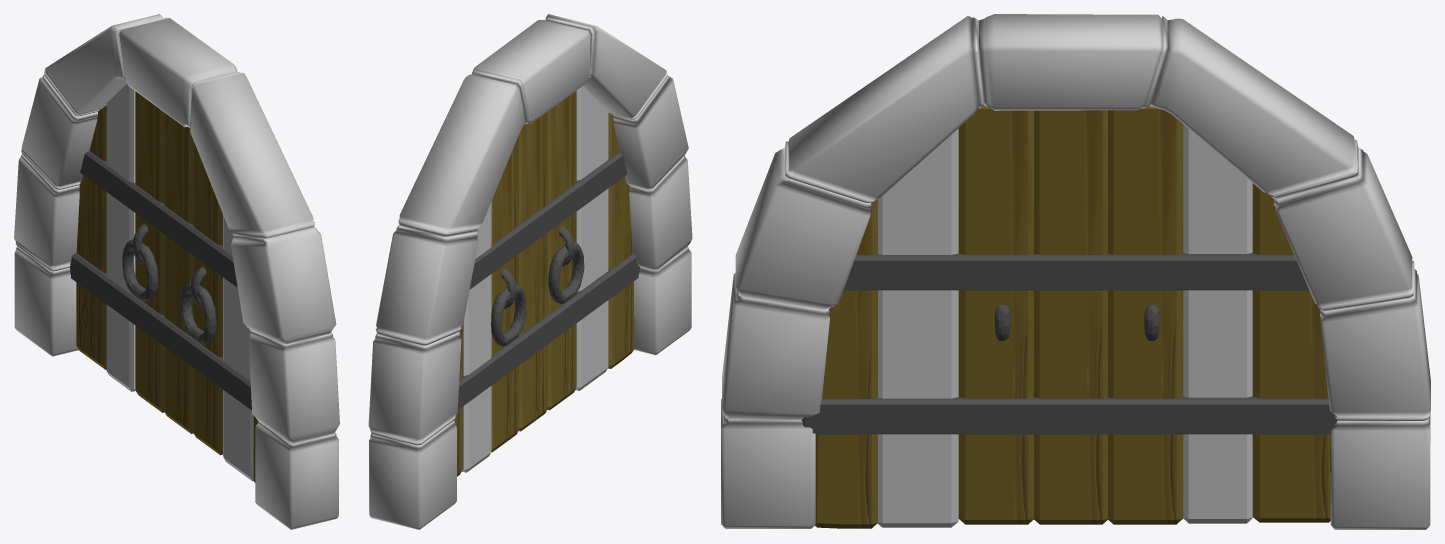
File: Doors.fbx
3 renders of one model, left to right at view 1: azimuth 30°, elevation 25°; view 2: azimuth 150°, elevation 25°; view 3: azimuth 270°, elevation 25°, orthographic. The views are drawn at different scales.
Parts seen in each view (by area): view 1: Cube.062, WallWoodV.303, WallWoodV.305, WallWoodV.304, Torus.013, Torus.015; view 2: Cube.062, WallWoodV.303, WallWoodV.305, WallWoodV.304, Torus.013, Torus.015; view 3: WallWoodV.303, Cube.062, WallWoodV.305, WallWoodV.304.
Part boxes in pixels (x1,y1,x2,y2): Cube.062: [14, 14, 339, 529]; WallWoodV.303: [76, 84, 258, 482]; WallWoodV.305: [70, 253, 251, 410]; WallWoodV.304: [80, 150, 237, 287]; Torus.013: [180, 282, 216, 344]; Torus.015: [122, 239, 158, 301]; Cube.062: [368, 14, 692, 529]; WallWoodV.303: [454, 86, 634, 476]; WallWoodV.305: [458, 254, 639, 409]; WallWoodV.304: [469, 152, 627, 289]; Torus.013: [548, 242, 584, 303]; Torus.015: [491, 284, 526, 346]; WallWoodV.303: [814, 105, 1330, 528]; Cube.062: [721, 14, 1430, 529]; WallWoodV.305: [801, 396, 1337, 434]; WallWoodV.304: [843, 252, 1308, 290].
Size of the model in its own units: 0.2408 by 1.55 by 2.05.
